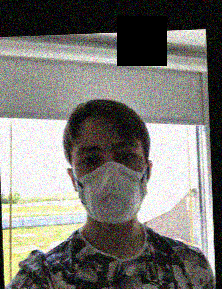with_mask: (69, 133, 151, 225)
